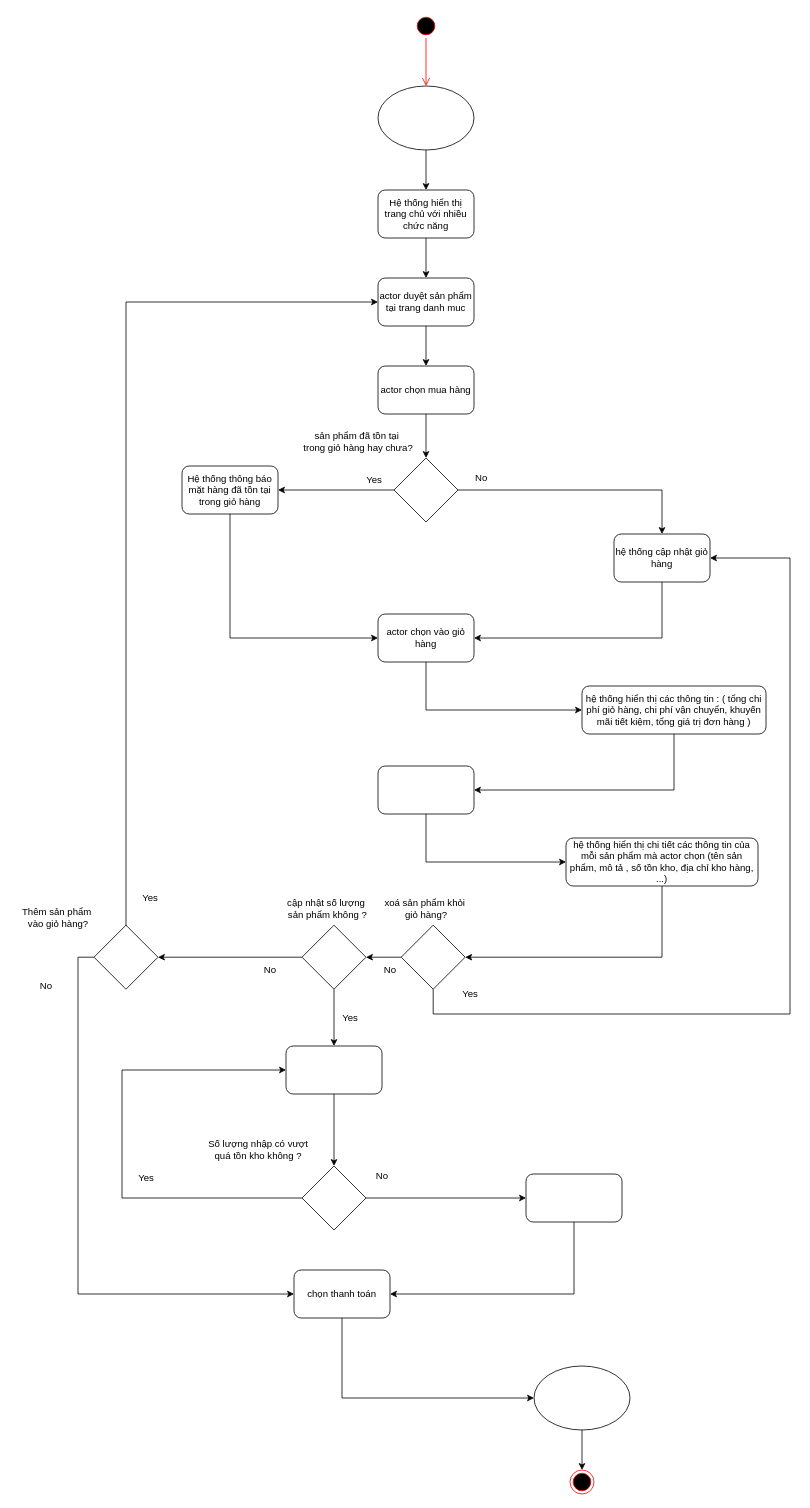
The diagram is 810 pixels wide and 1508 high, and some of its shapes have lost their labels. Each missing label, with the box of its shape:
actor nhấn chọn sản phẩm và nhập số lượng thực sự muốn mua: (285, 1045, 382, 1094)
chọn vào xem chi tiết các sản phẩm trong giỏ hàng: (377, 765, 474, 814)
Hệ thống cập nhật lại bảng tổng hợp: (525, 1173, 622, 1222)
xác thực đăng nhập: (377, 85, 474, 150)
xử lý thanh toán: (533, 1365, 630, 1430)
